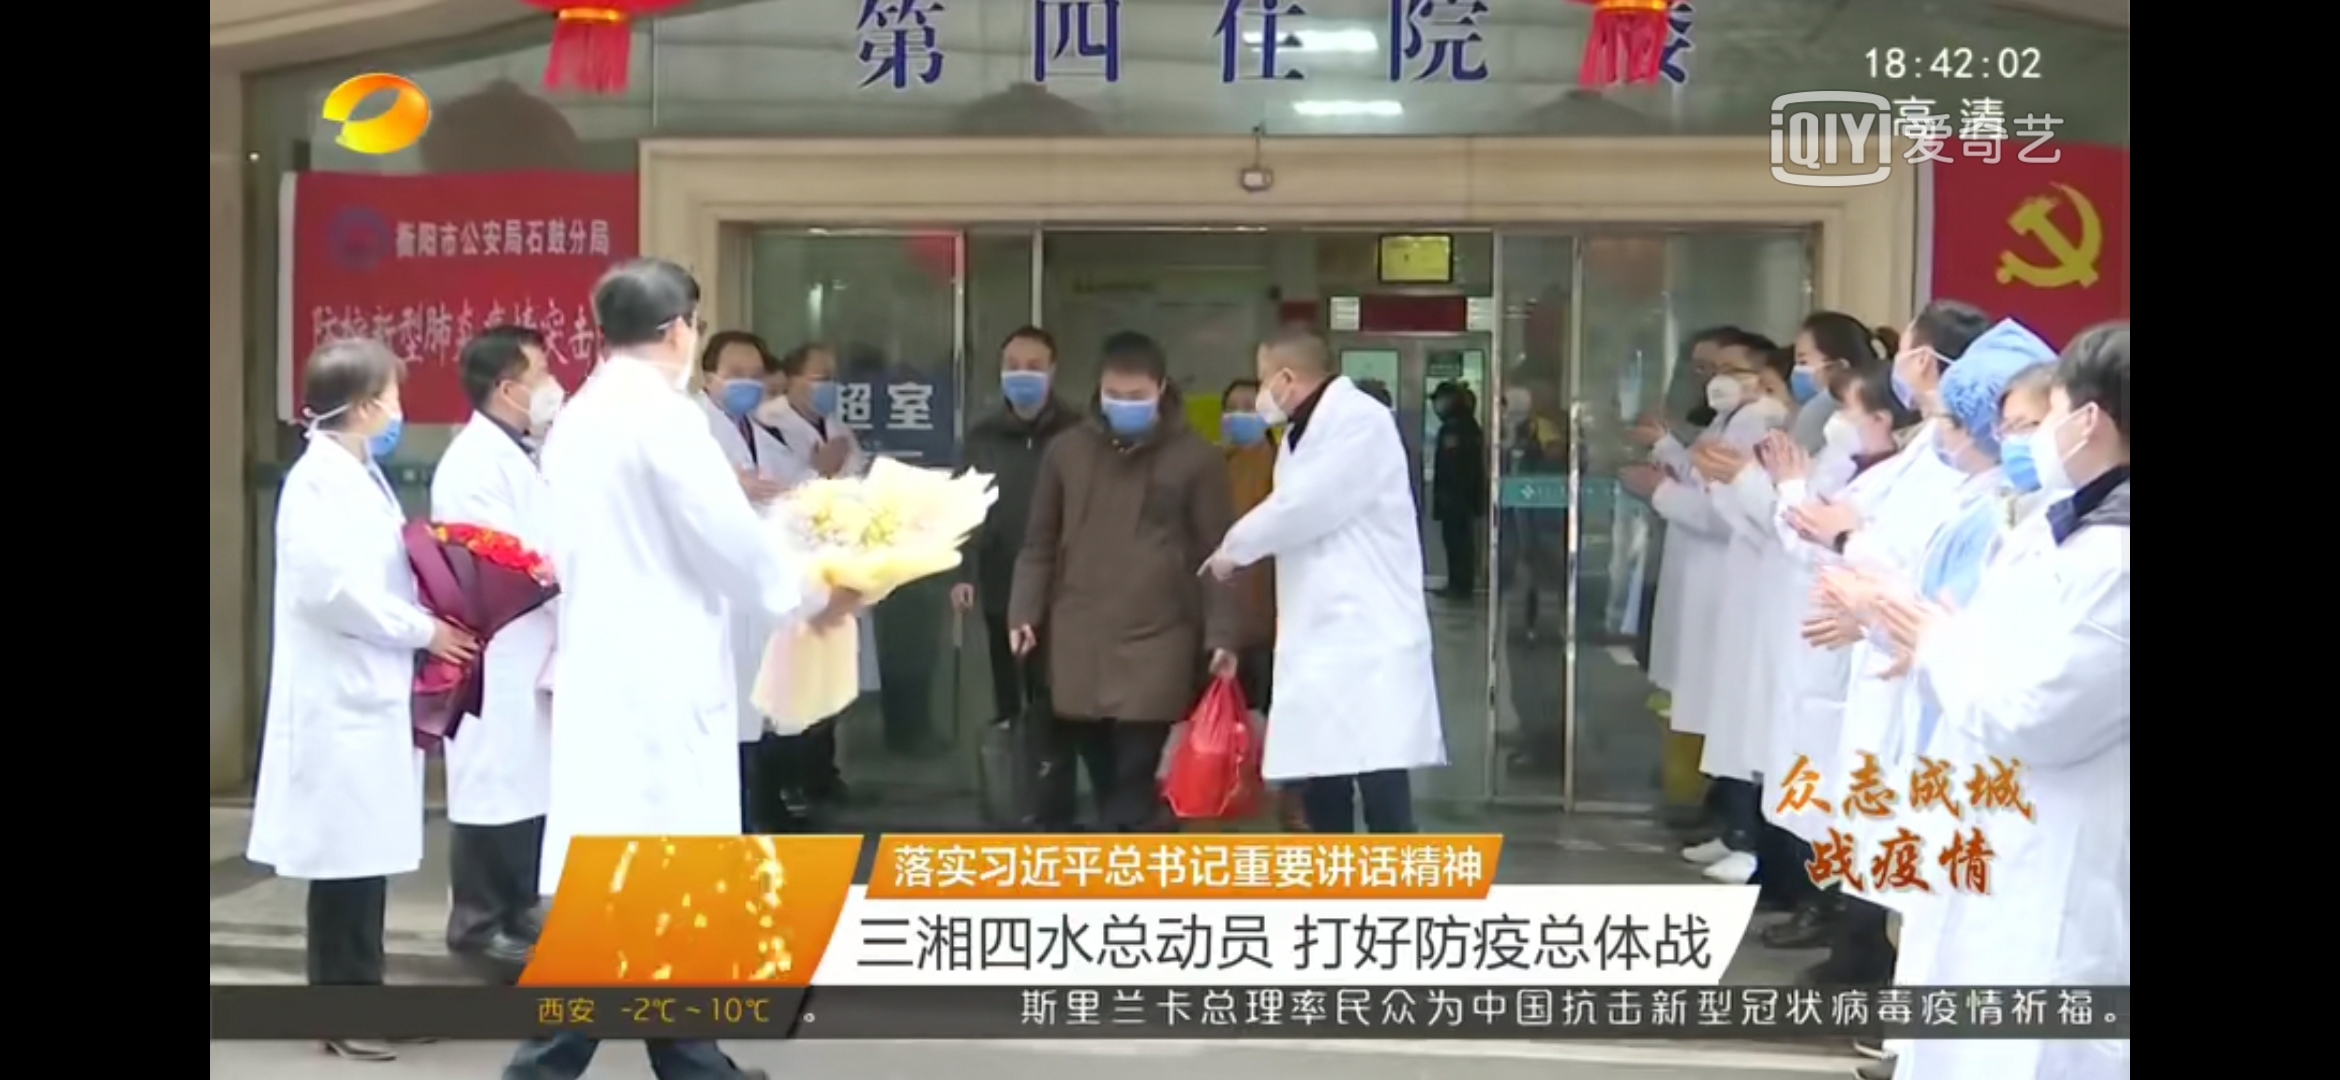correctlyWear: (2037, 392, 2101, 495), (336, 374, 406, 456), (495, 360, 564, 433), (1988, 403, 2036, 503), (1822, 391, 1894, 456), (1098, 373, 1169, 436), (1789, 336, 1852, 404), (1000, 345, 1057, 418), (704, 354, 772, 415), (1889, 337, 1946, 409), (655, 300, 698, 391), (1254, 354, 1298, 430), (1704, 357, 1762, 415), (789, 362, 845, 419), (1216, 391, 1266, 446)
